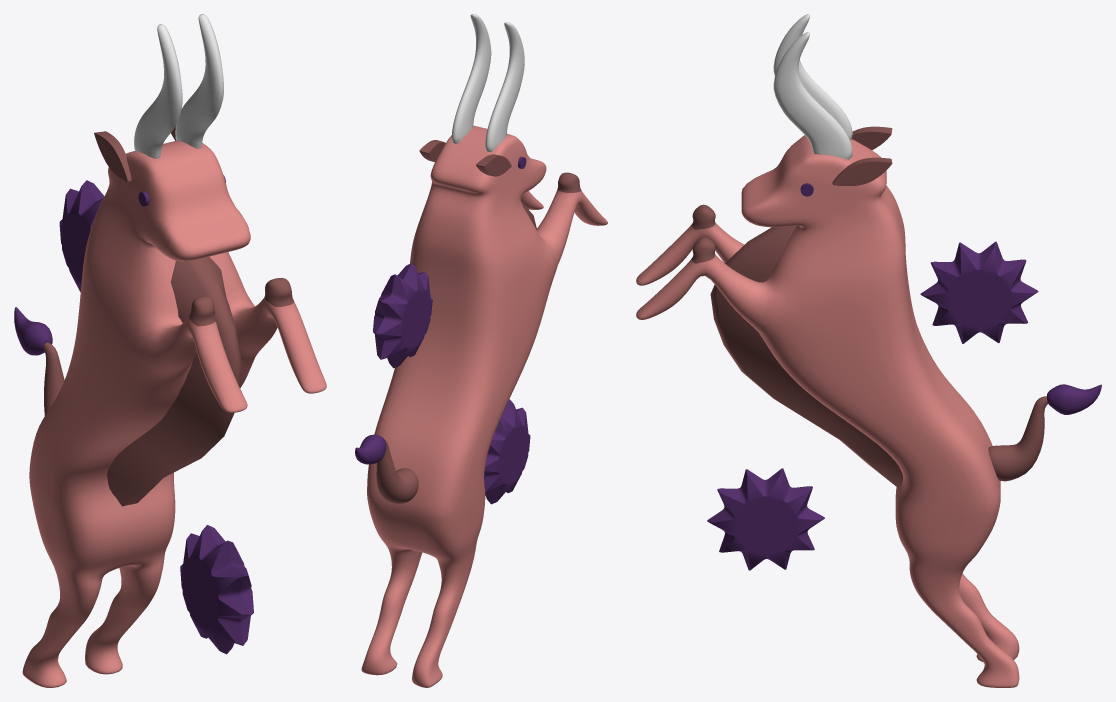
Rendered from badrpost-taurus-4661.glb.
The picture shows the model from 3 angles, left to right: view 1: azimuth 30°, elevation 25°; view 2: azimuth 150°, elevation 25°; view 3: azimuth 270°, elevation 25°; orthographic projection. The views are drawn at different scales.
Parts seen in each view (by area): view 1: body bull.004, belly bull, star bull 1.001, Bull's horn 1, star bull 1, Circle, ear bull, Circle.001; view 2: body bull.004, star bull 1, Bull's horn 1, star bull 1.001, Circle.001, ear bull, Circle; view 3: body bull.004, belly bull, star bull 1.001, star bull 1, Bull's horn 1, Circle.001, ear bull, Circle.
Boxes of the visible parts, x1,y1,x2,y2 form: body bull.004: [22, 140, 326, 687]; belly bull: [107, 256, 241, 506]; star bull 1.001: [180, 525, 253, 654]; Bull's horn 1: [134, 14, 223, 158]; star bull 1: [59, 180, 104, 291]; Circle: [14, 307, 52, 355]; ear bull: [94, 126, 176, 181]; Circle.001: [43, 342, 64, 415]; body bull.004: [361, 125, 607, 687]; star bull 1: [373, 263, 432, 368]; Bull's horn 1: [451, 14, 524, 151]; star bull 1.001: [484, 399, 530, 504]; Circle.001: [376, 439, 418, 503]; ear bull: [419, 140, 511, 176]; Circle: [355, 434, 386, 464]; body bull.004: [636, 135, 1019, 687]; belly bull: [710, 226, 902, 488]; star bull 1.001: [707, 468, 824, 570]; star bull 1: [920, 241, 1038, 343]; Bull's horn 1: [773, 14, 852, 159]; Circle.001: [988, 396, 1047, 481]; ear bull: [832, 126, 892, 185]; Circle: [1047, 384, 1101, 414].
Bounding box in the file's own units: 0.0369 × 0.2131 × 0.1389.
